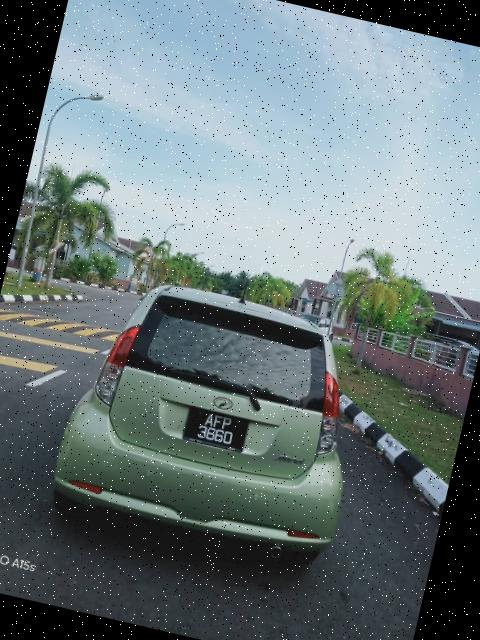License_Plate: (180, 406, 251, 456)
car: (46, 265, 389, 582)
